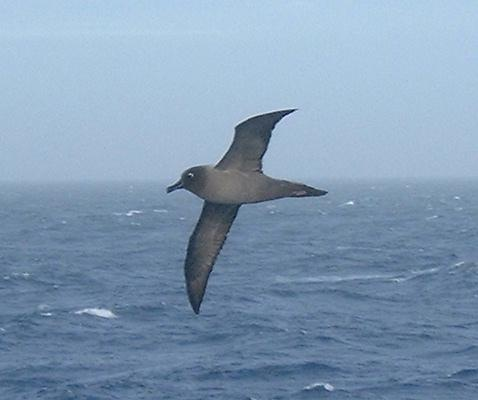bird: (163, 109, 326, 317)
